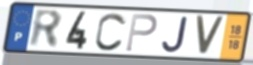4: (64, 10, 89, 51)
C: (94, 11, 129, 53)
J: (160, 15, 190, 55)
P: (124, 13, 159, 54)
R: (28, 7, 64, 50)
V: (194, 14, 226, 58)
